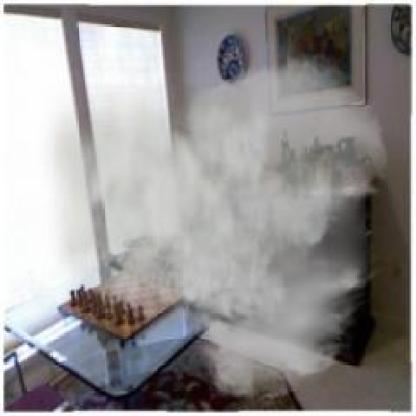Smoke: (39, 49, 391, 403)
